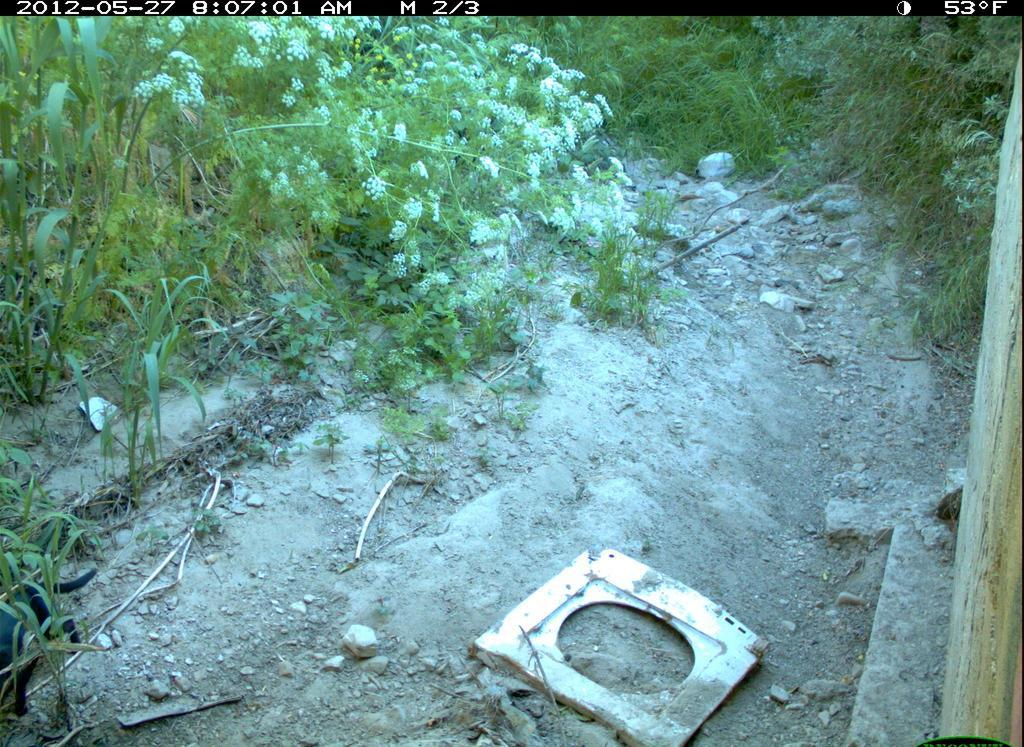cat: (7, 560, 107, 706)
